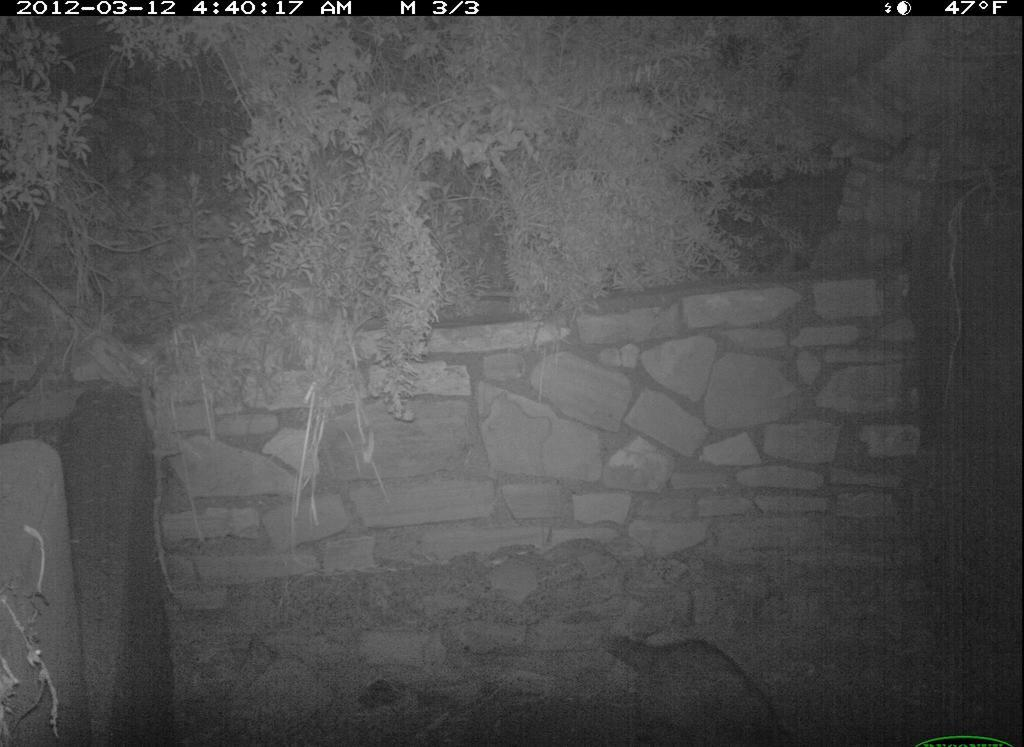raccoon: (597, 614, 820, 747)
